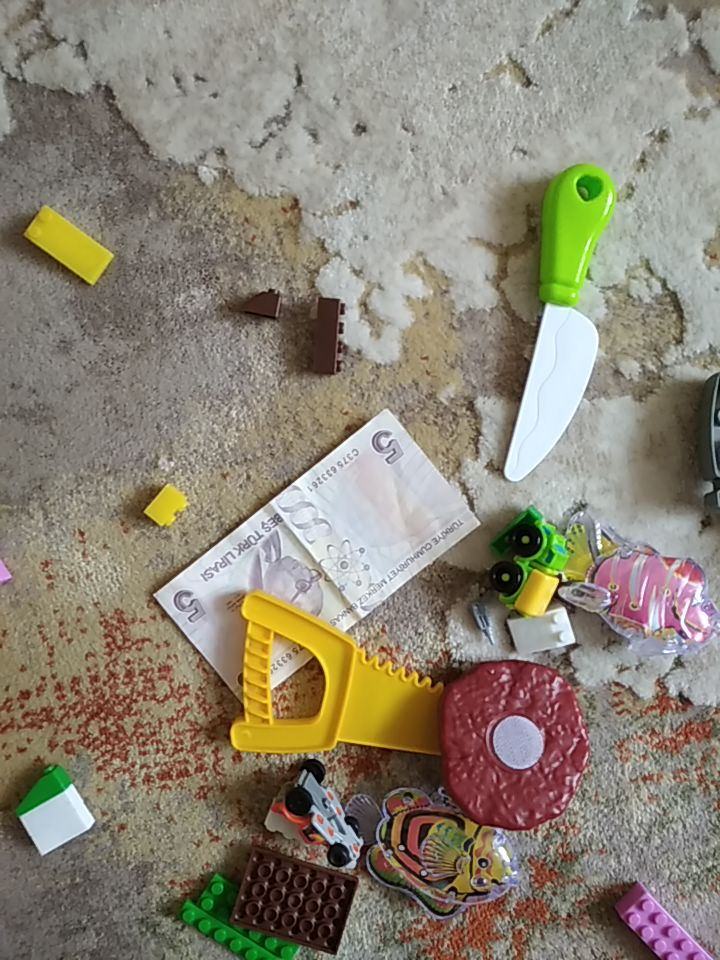5TL: (150, 405, 482, 710)
